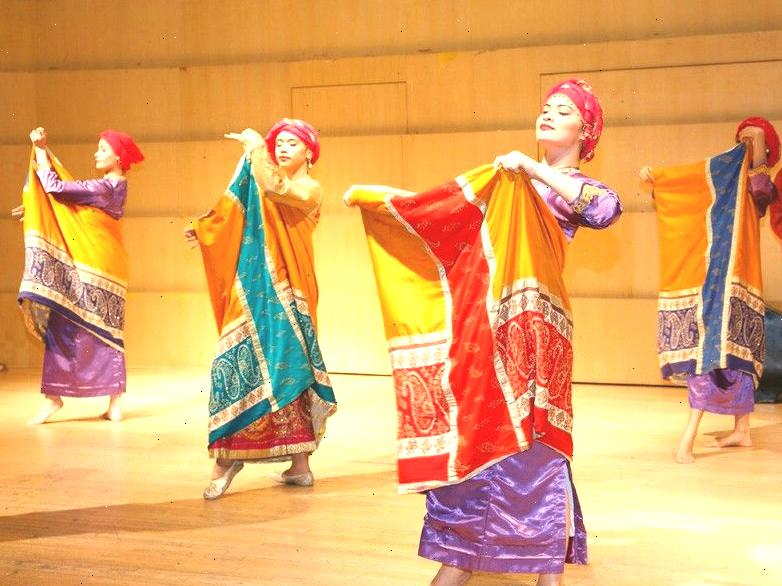malong: (348, 153, 591, 581), (176, 165, 346, 510), (623, 150, 778, 426), (0, 152, 158, 399)
